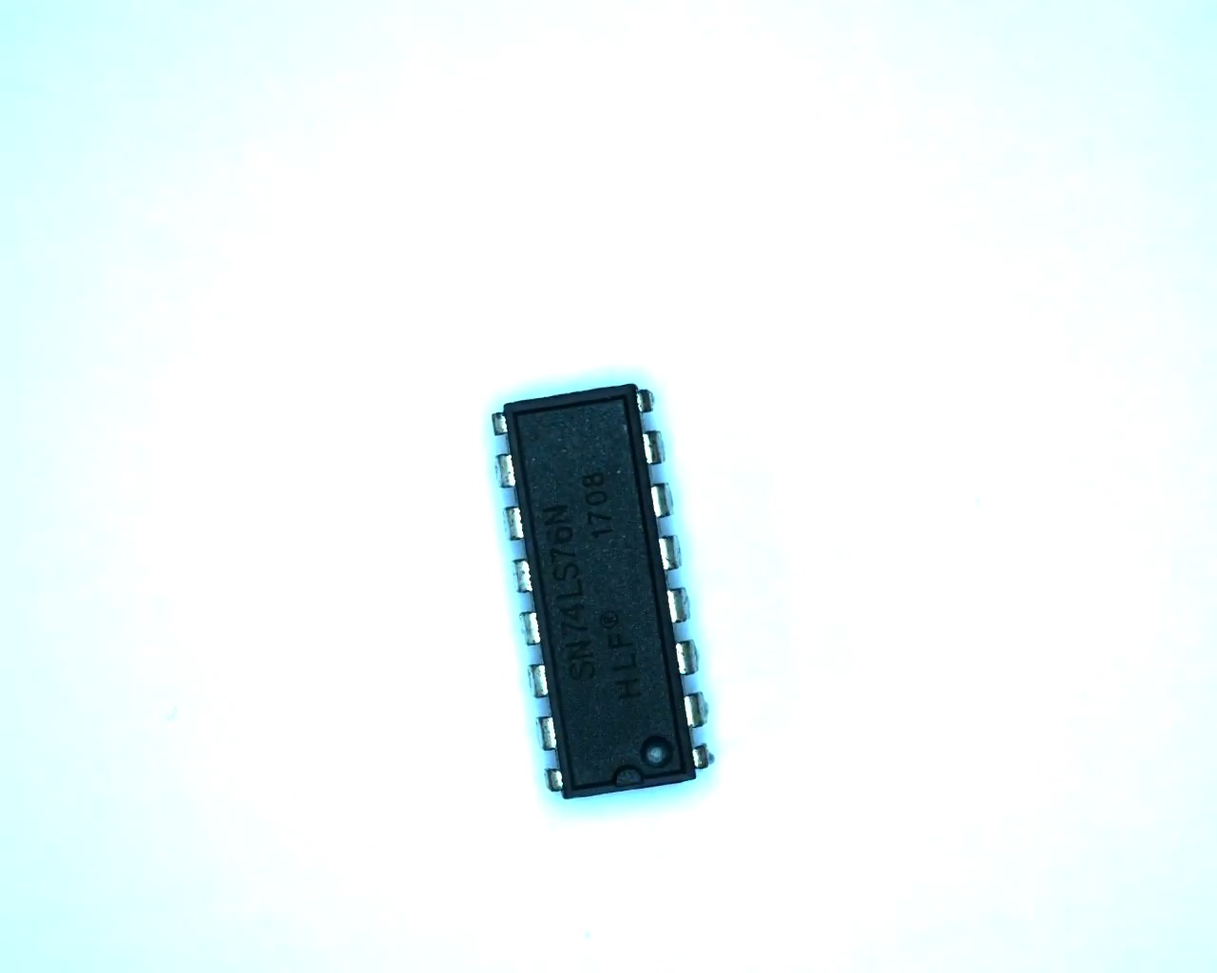IC: (476, 372, 728, 820)
notch: (607, 763, 649, 797)
